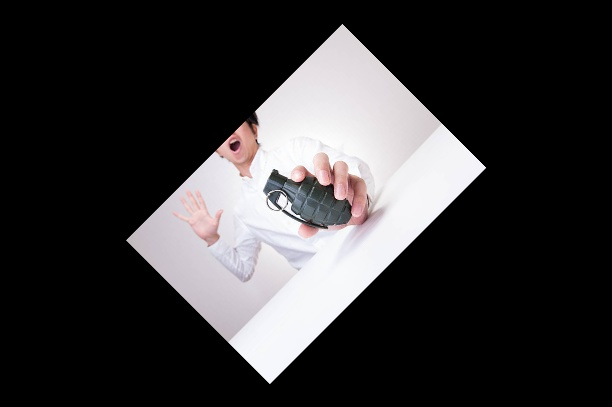e1: (261, 165, 352, 232)
